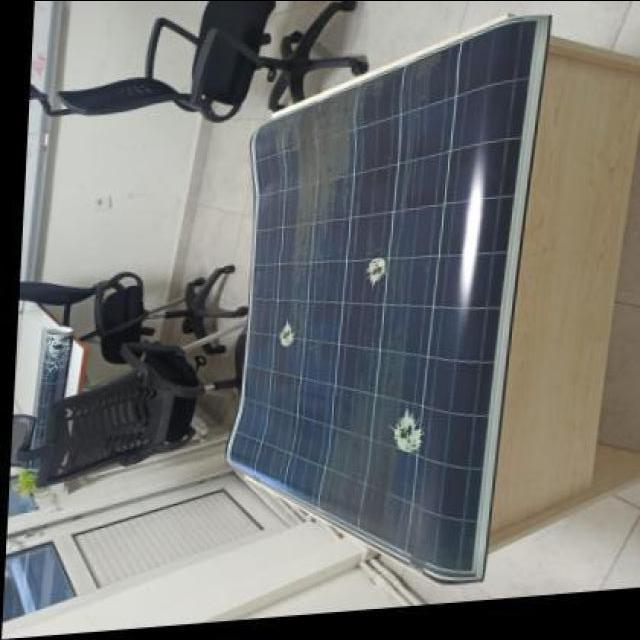soiled: (224, 14, 550, 578)
